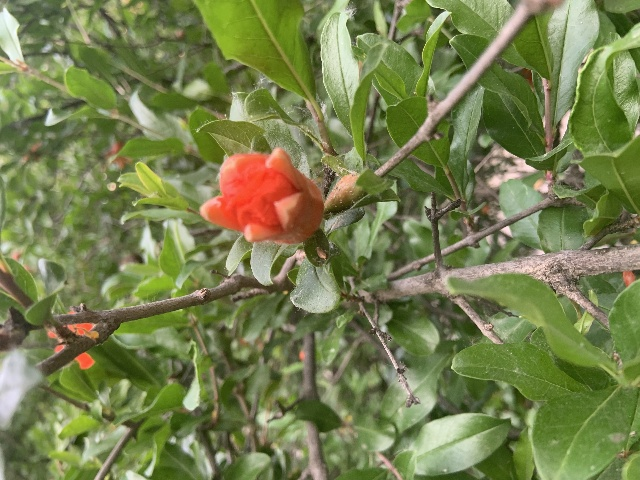bud: (325, 172, 365, 212)
flower: (199, 147, 324, 244)
